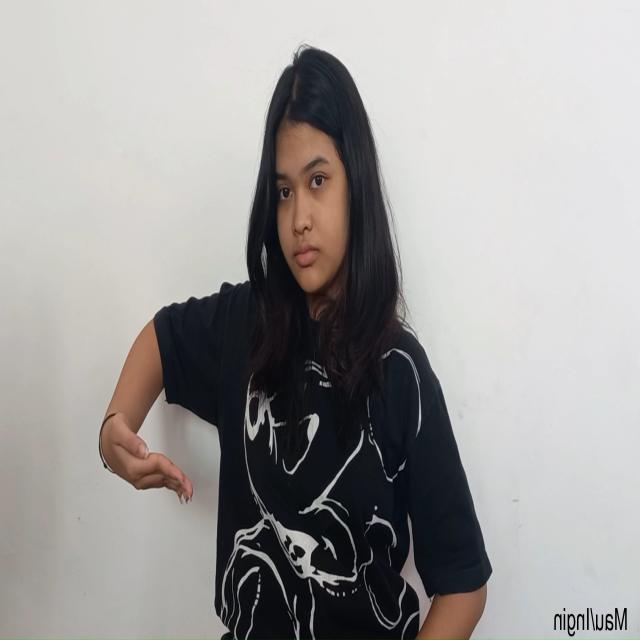Mau-Ingin -BISINDO-: (88, 413, 197, 510)
